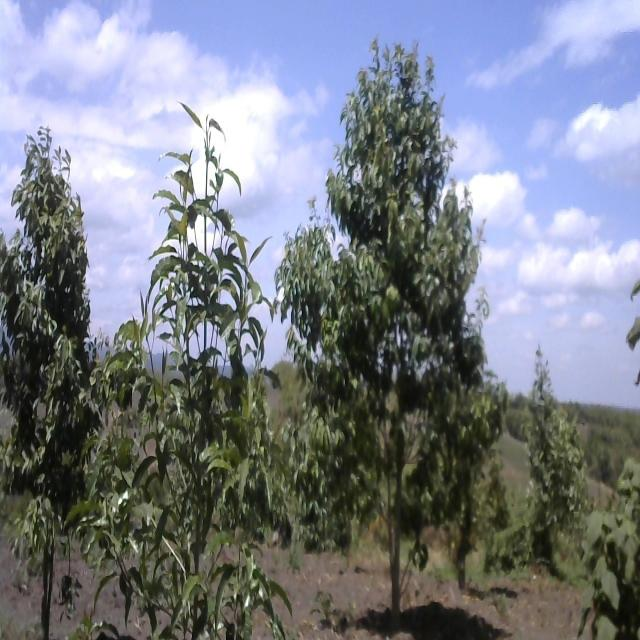Olea welwitchii: (103, 102, 288, 640)
Prunus Africana: (284, 34, 506, 572), (0, 102, 99, 608)
